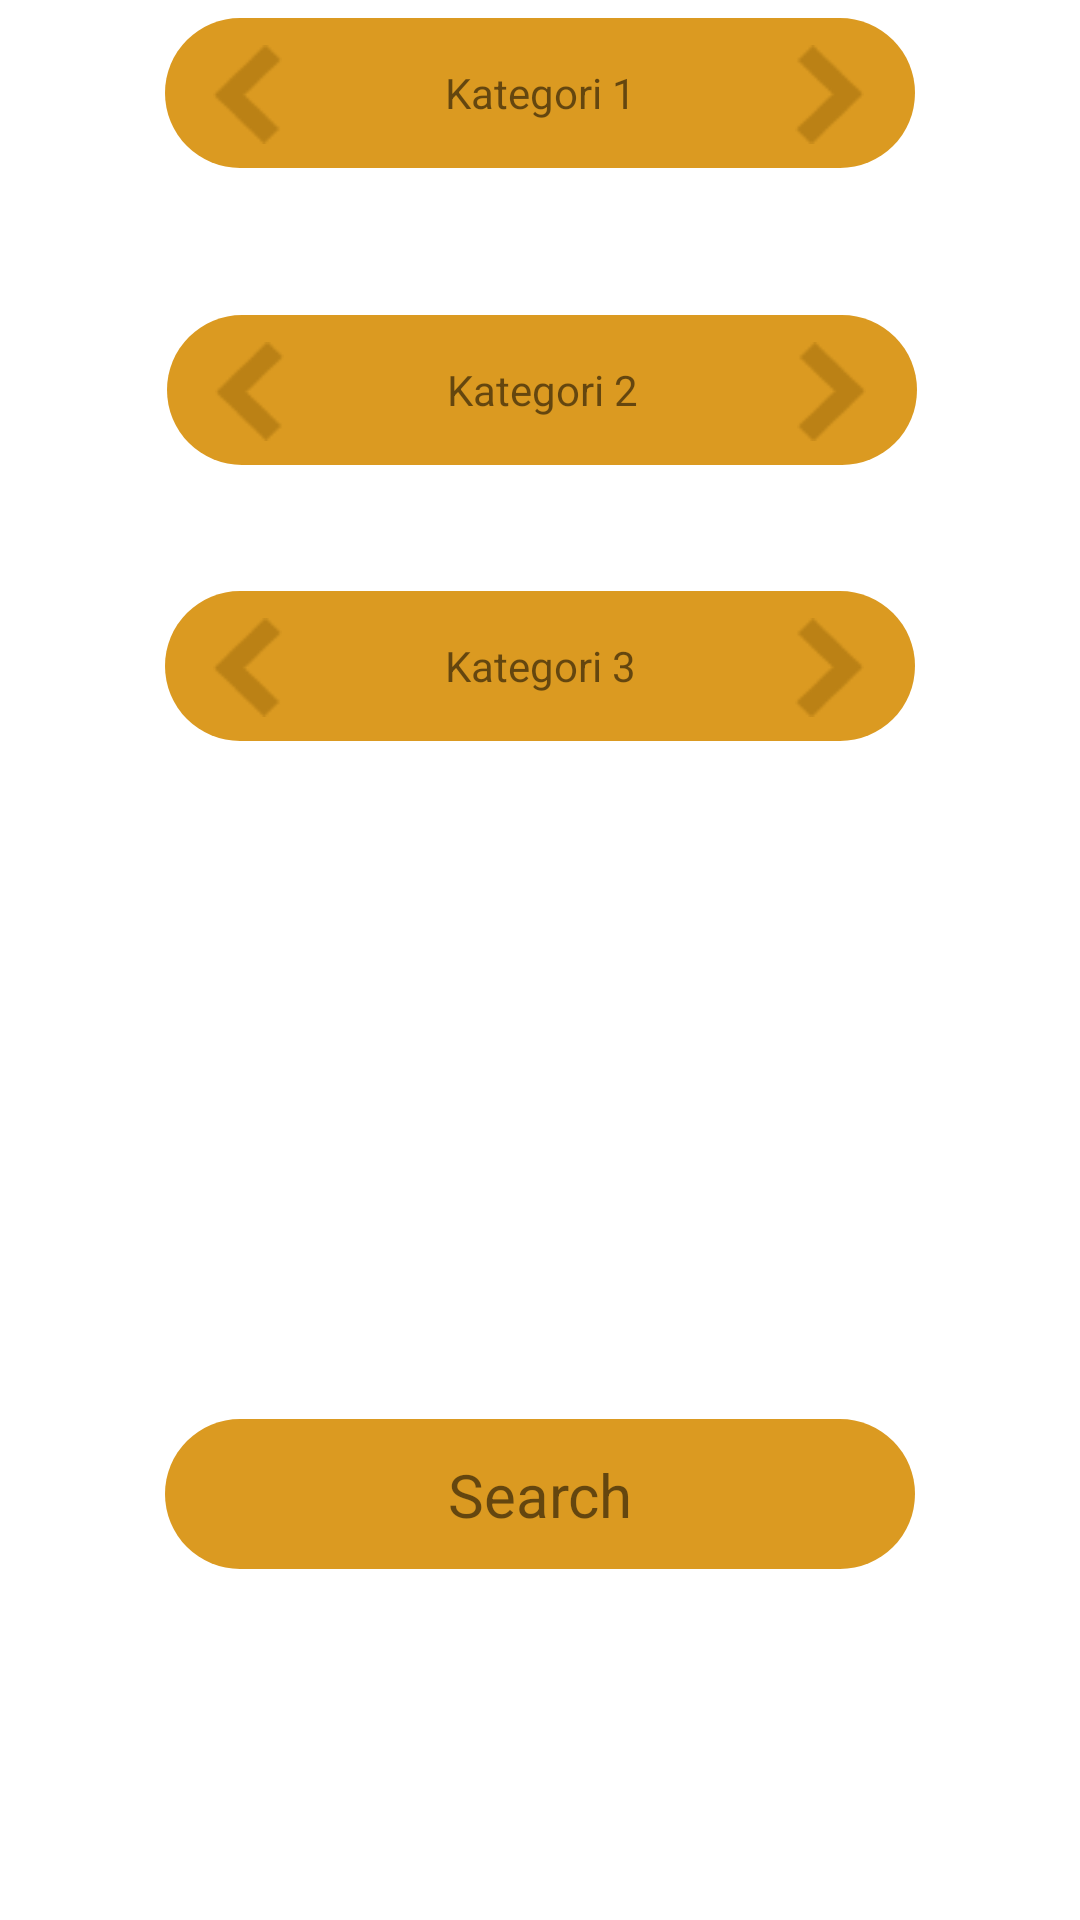

Icons on this 1080×1920 Android screen, each with its box as {"left": x1, "top": y1, "right": x2, "bottom": y2}:
left arrow: {"left": 216, "top": 48, "right": 278, "bottom": 141}, {"left": 218, "top": 345, "right": 280, "bottom": 438}, {"left": 216, "top": 621, "right": 278, "bottom": 714}
right arrow: {"left": 799, "top": 48, "right": 861, "bottom": 141}, {"left": 801, "top": 345, "right": 863, "bottom": 439}, {"left": 799, "top": 621, "right": 861, "bottom": 714}
